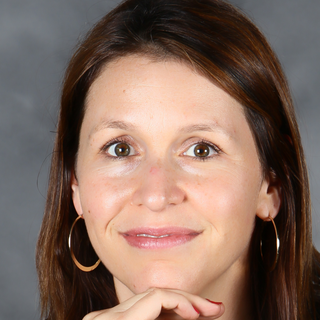eye: (173, 134, 229, 167), (95, 132, 147, 163)
